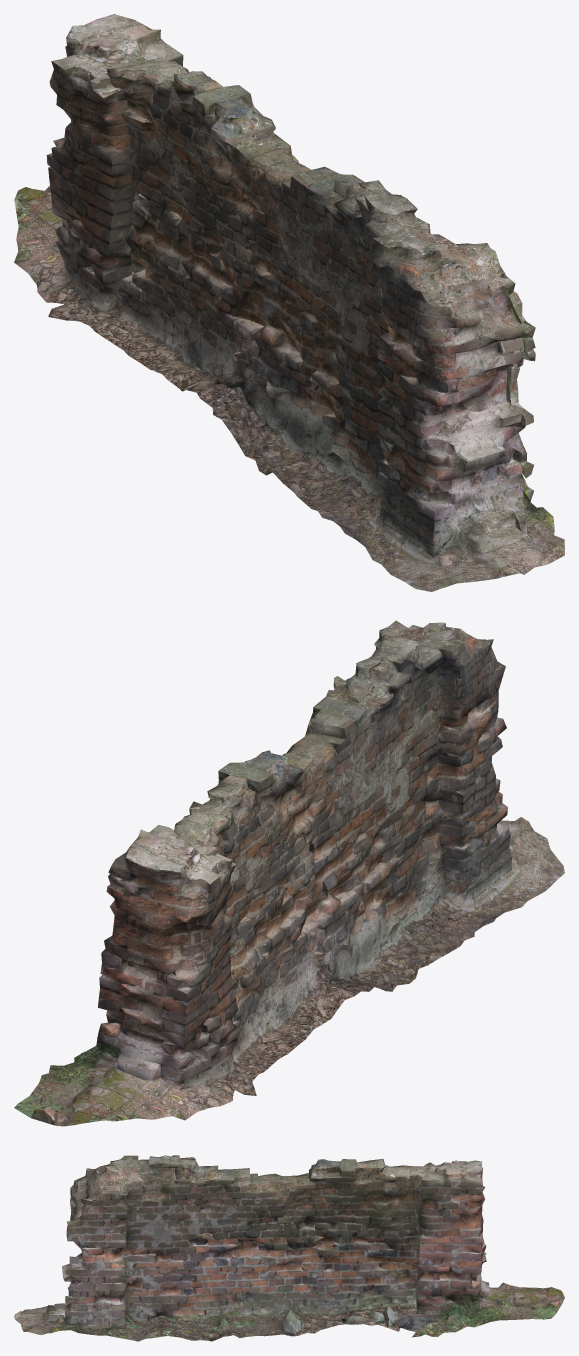
Rendered from SM_Fence_01_02.fbx.
The picture shows the model from 3 angles, top to bottom: view 1: azimuth 30°, elevation 25°; view 2: azimuth 150°, elevation 25°; view 3: azimuth 270°, elevation 25°; orthographic projection. The views are drawn at different scales.
Visible parts, largest first — view 1: sm_Fence_01_02_LOD0; view 2: sm_Fence_01_02_LOD0; view 3: sm_Fence_01_02_LOD0.
Part boxes in pixels (x1=…): sm_Fence_01_02_LOD0: x1=14, y1=14, x2=564, y2=591; sm_Fence_01_02_LOD0: x1=14, y1=620, x2=564, y2=1126; sm_Fence_01_02_LOD0: x1=14, y1=1155, x2=564, y2=1341.
Bounding box in the file's own units: 615 × 139 × 209.
